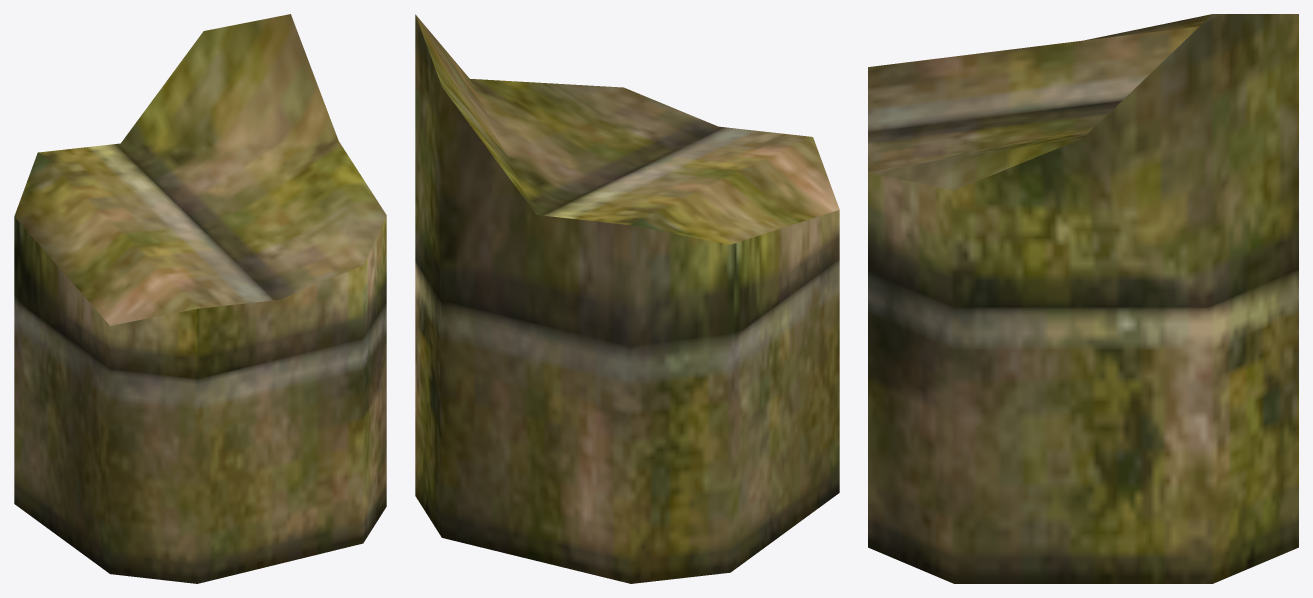
The model's file is OVERHILL_A_01_LINE401.fbx.
3 renders of one model, left to right at view 1: azimuth 30°, elevation 25°; view 2: azimuth 150°, elevation 25°; view 3: azimuth 270°, elevation 25°, orthographic. The views are drawn at different scales.
Visible parts, largest first — view 1: OVERHILL_A_01_LINE401; view 2: OVERHILL_A_01_LINE401; view 3: OVERHILL_A_01_LINE401.
Boxes of the visible parts, x1,y1,x2,y2 form: OVERHILL_A_01_LINE401: [14, 14, 386, 583]; OVERHILL_A_01_LINE401: [415, 14, 839, 583]; OVERHILL_A_01_LINE401: [868, 14, 1298, 583].
Bounding box in the file's own units: 9604 × 14025 × 9604.
Materials: 1 (1 with a texture image).
